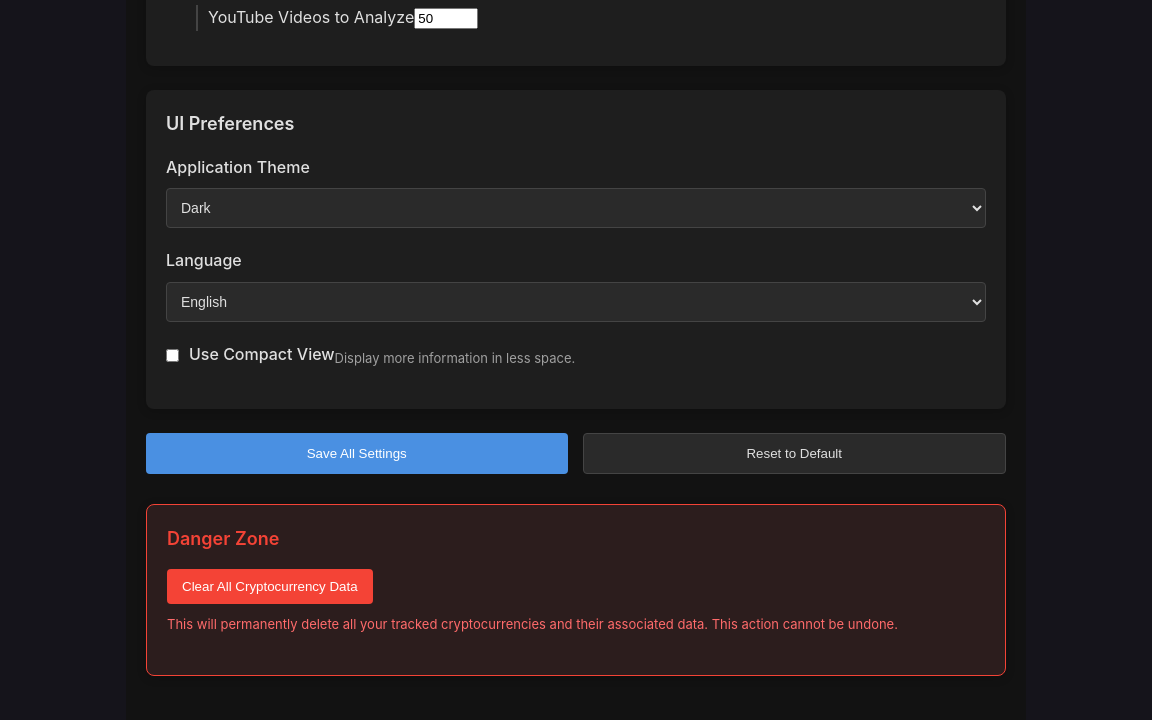
Test: Settings Component › allows resetting settings to defaults
The width and height of the screenshot is (1152, 720).
Click the button "Reset to Default": point(794, 453) [582,432,1006,474]
(page scrolled)
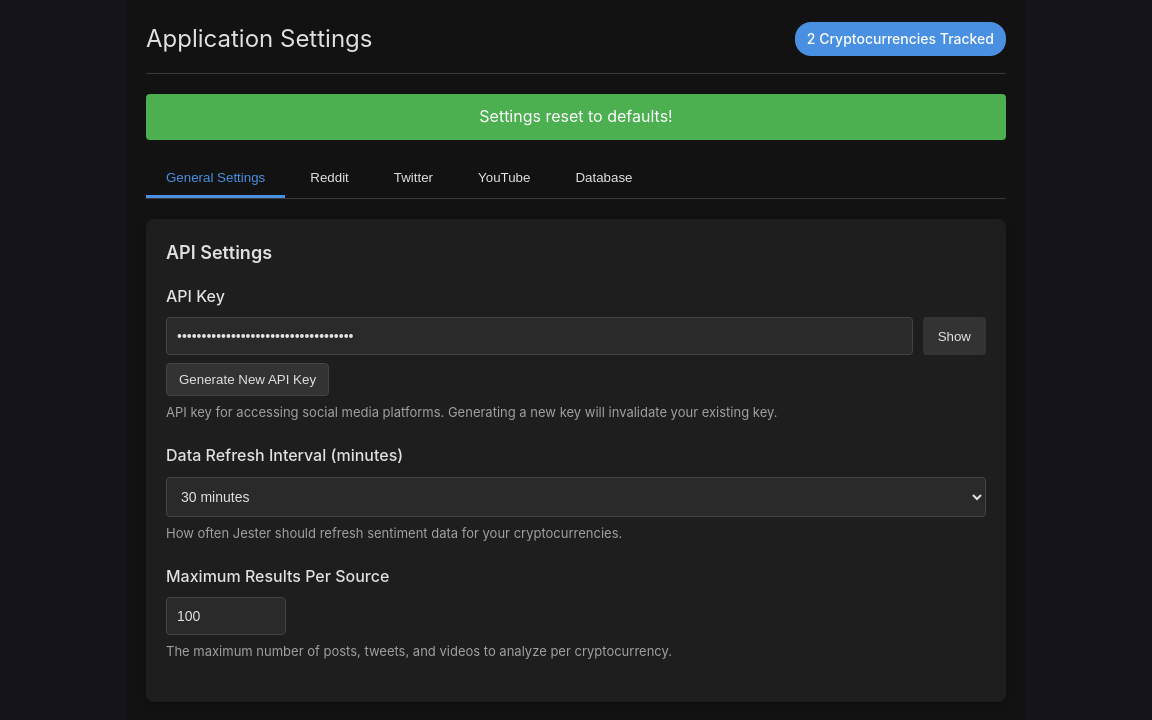
Expected: the text "Settings reset to defaults!" is shown, [146,94,1006,140]
